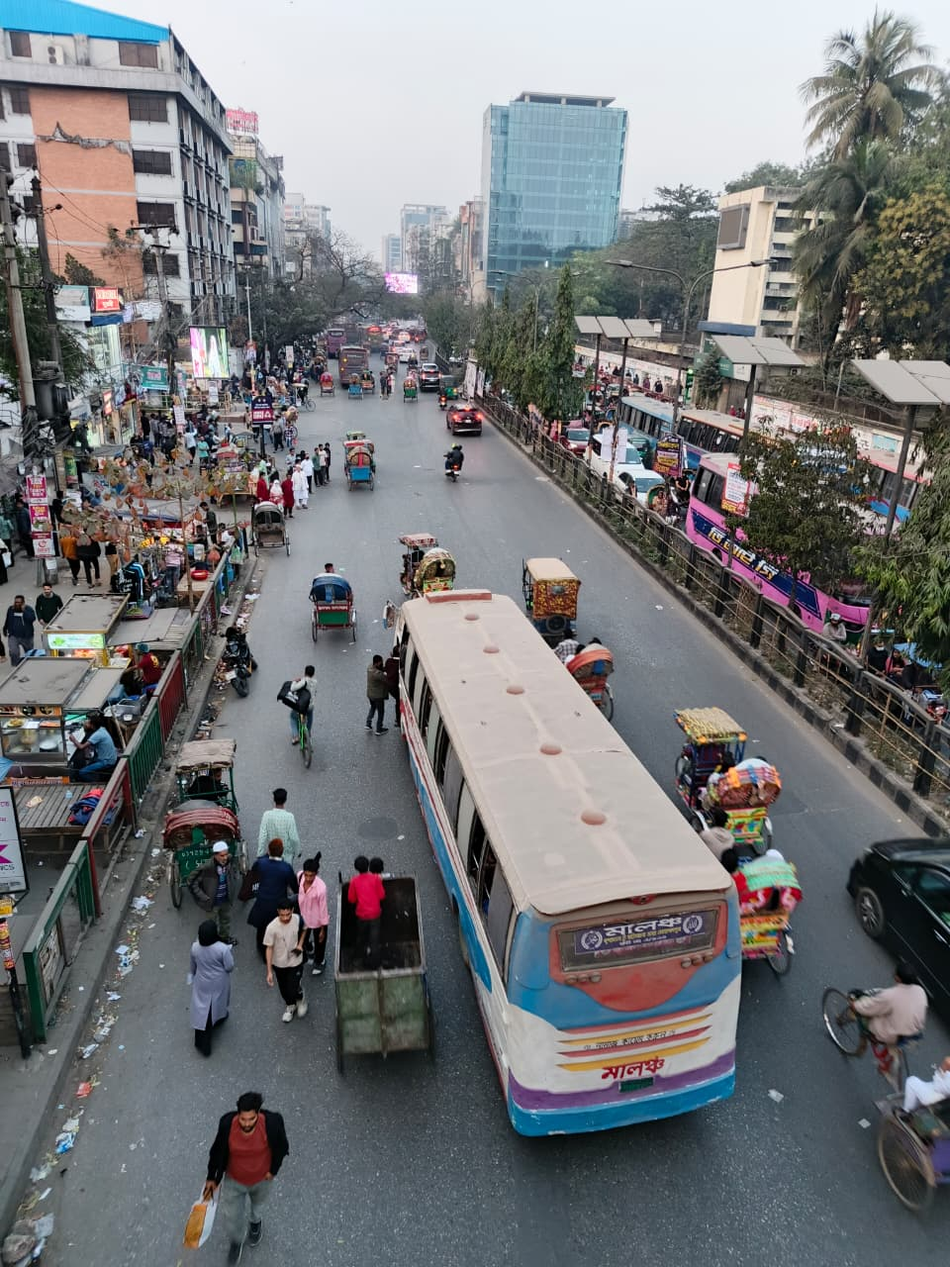Bus: (369, 569, 774, 1159)
auto-ricksaw: (808, 978, 950, 1234), (656, 674, 794, 846), (158, 717, 251, 910), (732, 852, 825, 983), (294, 552, 363, 664), (511, 542, 587, 629)
